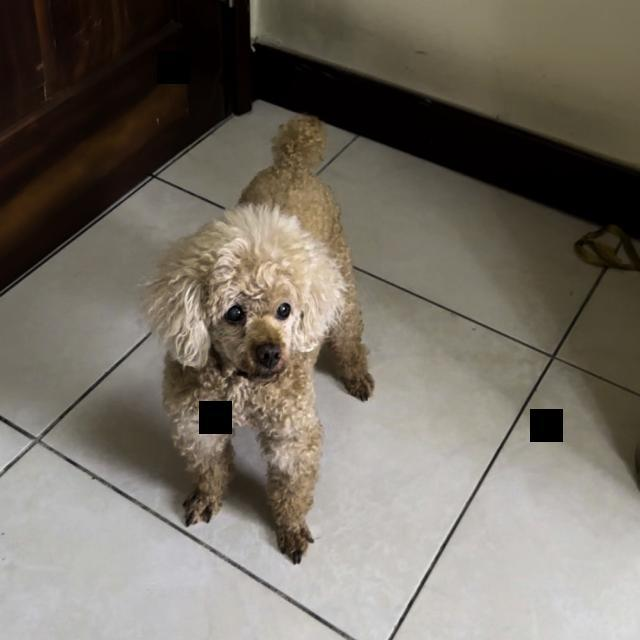adult_dog: (138, 113, 376, 564)
